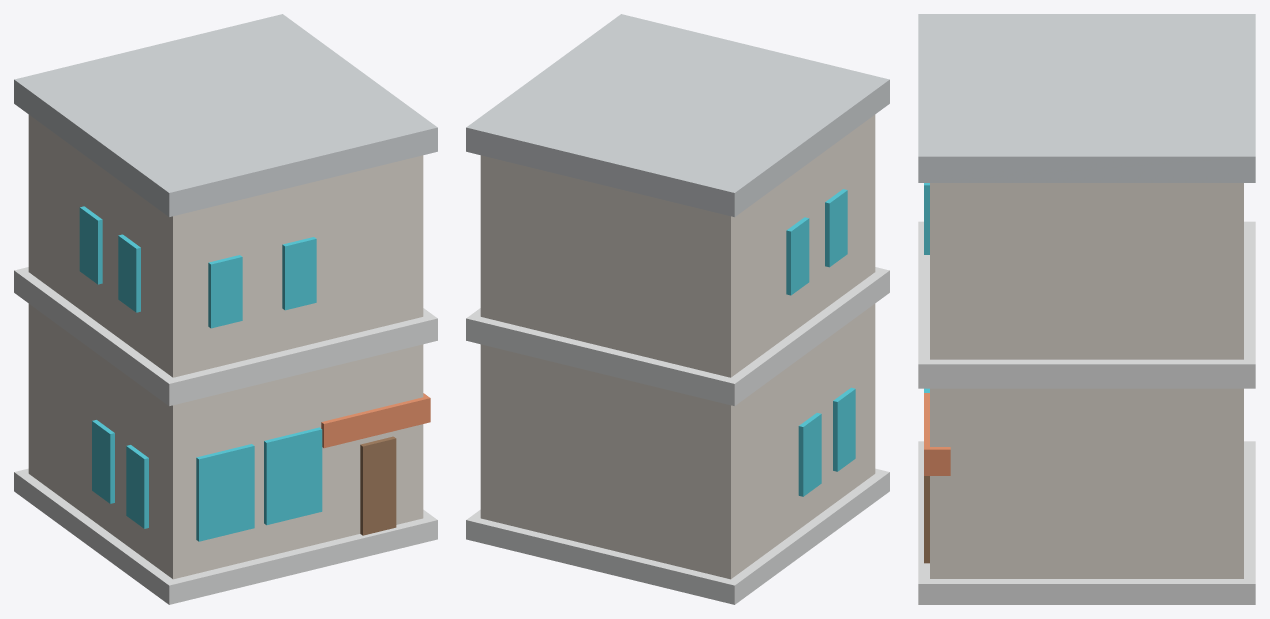
File: House01.fbx
The picture shows the model from 3 angles, left to right: view 1: azimuth 30°, elevation 25°; view 2: azimuth 150°, elevation 25°; view 3: azimuth 270°, elevation 25°; orthographic projection. The views are drawn at different scales.
Parts seen in each view (by area): view 1: House01; view 2: House01; view 3: House01.
Part boxes in pixels (x1,y1,x2,y2): House01: (14, 14, 437, 604); House01: (466, 14, 889, 604); House01: (918, 14, 1255, 604).
Bounding box in the file's own units: 638 × 935 × 638.
